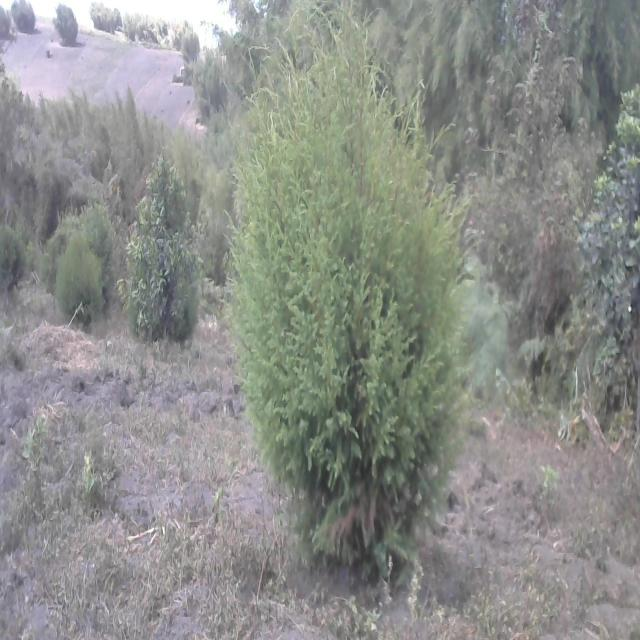Juniperus procesera: (222, 8, 470, 576), (56, 226, 105, 325)
